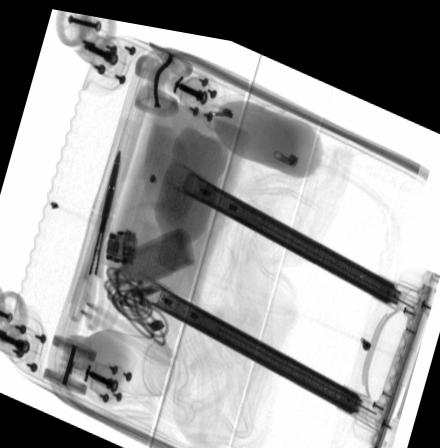Scissors: (69, 146, 120, 329)
